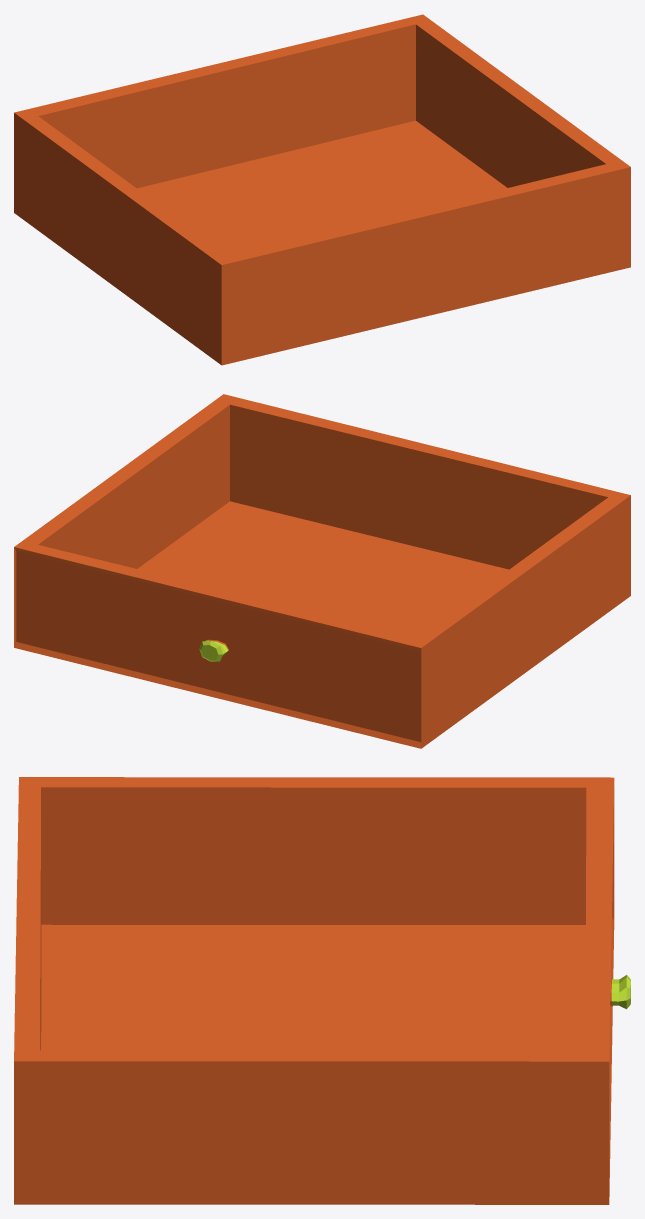
Rendered from GGJ-Teacher-Desk-Drawer-large.fbx.
3 renders of one model, top to bottom at view 1: azimuth 30°, elevation 25°; view 2: azimuth 150°, elevation 25°; view 3: azimuth 270°, elevation 25°, orthographic. The views are drawn at different scales.
Visible parts, largest first — view 1: Teacher-Desk-Drawer-large; view 2: Teacher-Desk-Drawer-large; view 3: Teacher-Desk-Drawer-large.
Part boxes in pixels (<box>): Teacher-Desk-Drawer-large: <box>14,14,630,365</box>; Teacher-Desk-Drawer-large: <box>14,394,630,748</box>; Teacher-Desk-Drawer-large: <box>14,777,630,1204</box>.
Size of the model in its own units: 195 by 179 by 45.78.
